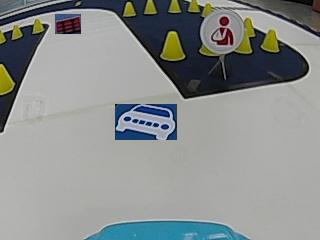cone: (160, 30, 185, 61), (261, 28, 279, 53), (0, 61, 14, 93), (235, 28, 252, 54), (122, 2, 136, 16), (31, 18, 44, 33), (168, 0, 181, 13), (144, 1, 157, 14), (11, 24, 22, 39), (188, 0, 199, 12), (0, 28, 6, 43)
patient: (203, 11, 240, 52)
